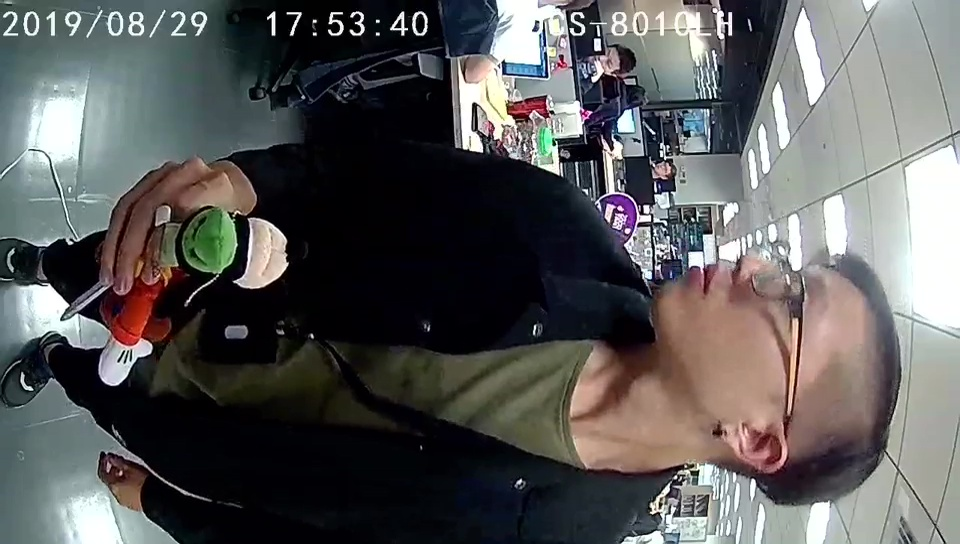goofy: (94, 203, 290, 383)
